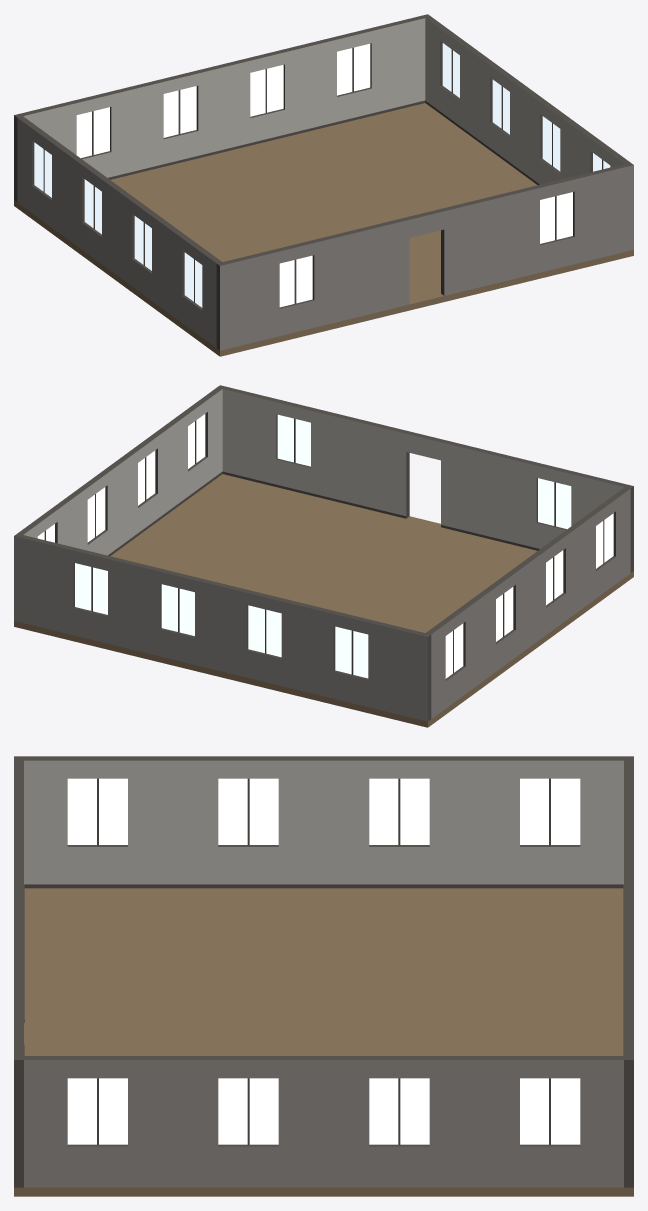
Rendered from Apartment_Medium_Shell.glb.
3 renders of one model, top to bottom at view 1: azimuth 30°, elevation 25°; view 2: azimuth 150°, elevation 25°; view 3: azimuth 270°, elevation 25°, orthographic. The views are drawn at different scales.
Visible parts, largest first — view 1: Apartment_Medium_Shell; view 2: Apartment_Medium_Shell; view 3: Apartment_Medium_Shell.
Boxes of the visible parts, box(x1,y1,x2,y2) form: Apartment_Medium_Shell: box(14, 14, 633, 356); Apartment_Medium_Shell: box(14, 385, 633, 727); Apartment_Medium_Shell: box(14, 756, 633, 1196).
Size of what is drawn, in the model's own units: 14.31 by 3 by 12.34.
